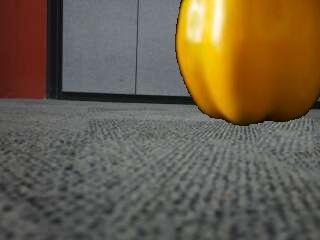Tomato: (174, 0, 320, 126)
